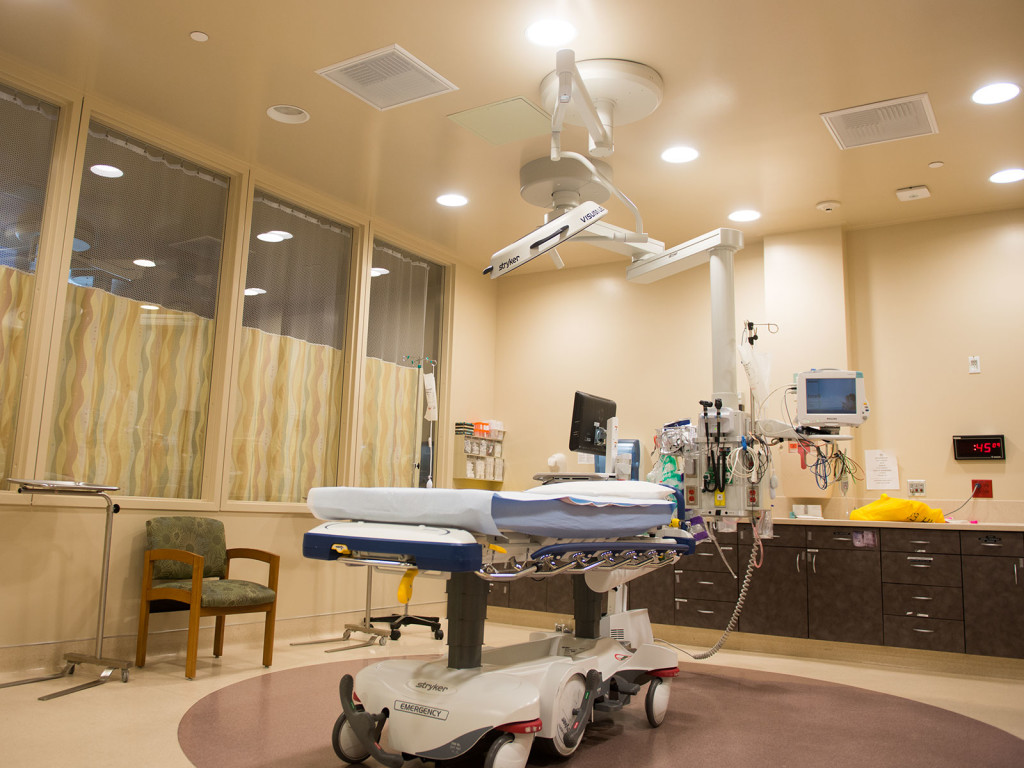bedside_monitor: (796, 368, 867, 427)
chair: (135, 517, 281, 677)
computer: (567, 391, 616, 453)
counter: (486, 517, 1024, 668)
curtain: (62, 282, 203, 501), (234, 324, 343, 513), (359, 346, 422, 494), (3, 266, 35, 481)
handle: (1011, 563, 1020, 588), (810, 552, 819, 576), (795, 550, 802, 575), (912, 627, 932, 635), (914, 594, 934, 602), (909, 539, 929, 547), (983, 540, 1003, 548), (911, 561, 931, 569), (696, 581, 716, 586), (696, 610, 716, 615), (695, 552, 715, 557), (833, 536, 853, 541), (772, 534, 780, 538)
iv_pole: (403, 354, 439, 614)
operating_bed: (297, 479, 700, 768)
utility_cart: (1, 480, 134, 700)
